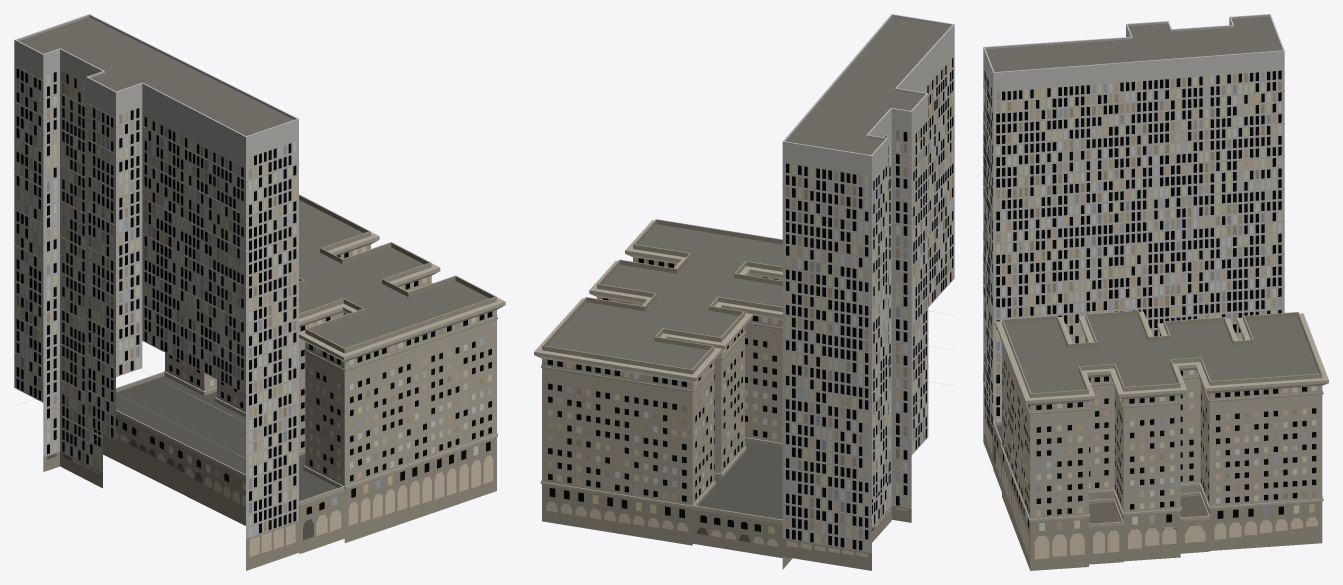
File: stFrancis_lod1.glb
3 renders of one model, left to right at view 1: azimuth 30°, elevation 25°; view 2: azimuth 150°, elevation 25°; view 3: azimuth 270°, elevation 25°, orthographic. The views are drawn at different scales.
Visible parts, largest first — view 1: L1_concrete, L1_win, L1_stone, L1_roof, L1_shop; view 2: L1_concrete, L1_stone, L1_win, L1_roof, L1_shop; view 3: L1_concrete, L1_win, L1_stone, L1_roof, L1_shop.
Boxes of the visible parts, <box> form: L1_concrete: <box>14,14,299,538</box>; L1_win: <box>16,68,492,536</box>; L1_stone: <box>43,194,505,570</box>; L1_roof: <box>19,17,489,501</box>; L1_shop: <box>47,431,493,556</box>; L1_concrete: <box>782,14,954,552</box>; L1_stone: <box>534,219,911,570</box>; L1_win: <box>547,57,953,551</box>; L1_roof: <box>547,17,950,519</box>; L1_shop: <box>546,501,907,557</box>; L1_concrete: <box>983,14,1284,438</box>; L1_win: <box>983,68,1316,530</box>; L1_stone: <box>983,310,1328,570</box>; L1_roof: <box>986,16,1319,523</box>; L1_shop: <box>984,417,1317,559</box>.
Bounding box in the file's own units: 106 × 125 × 98.04.
